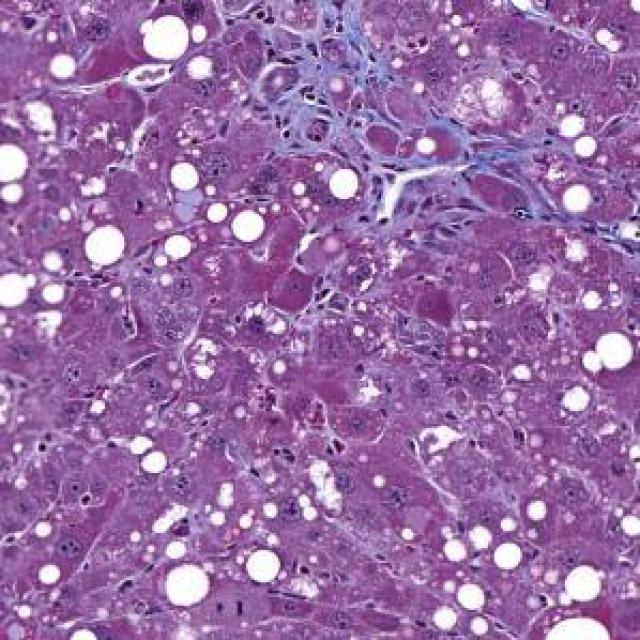fibrosis: (244, 9, 409, 156)
